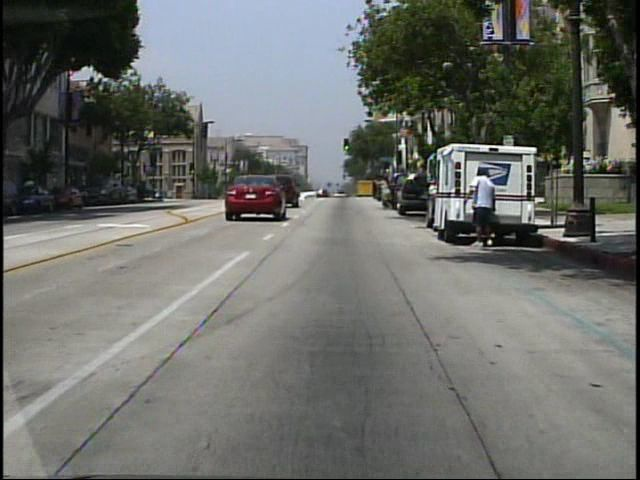person: (460, 166, 502, 248), (375, 172, 394, 211)
